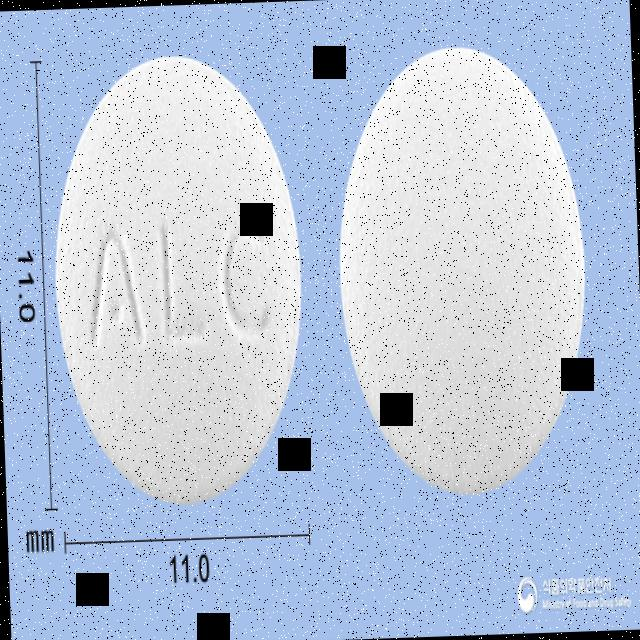Ciprofloxacin Hcl Tab- Arlico: (44, 41, 312, 516)
